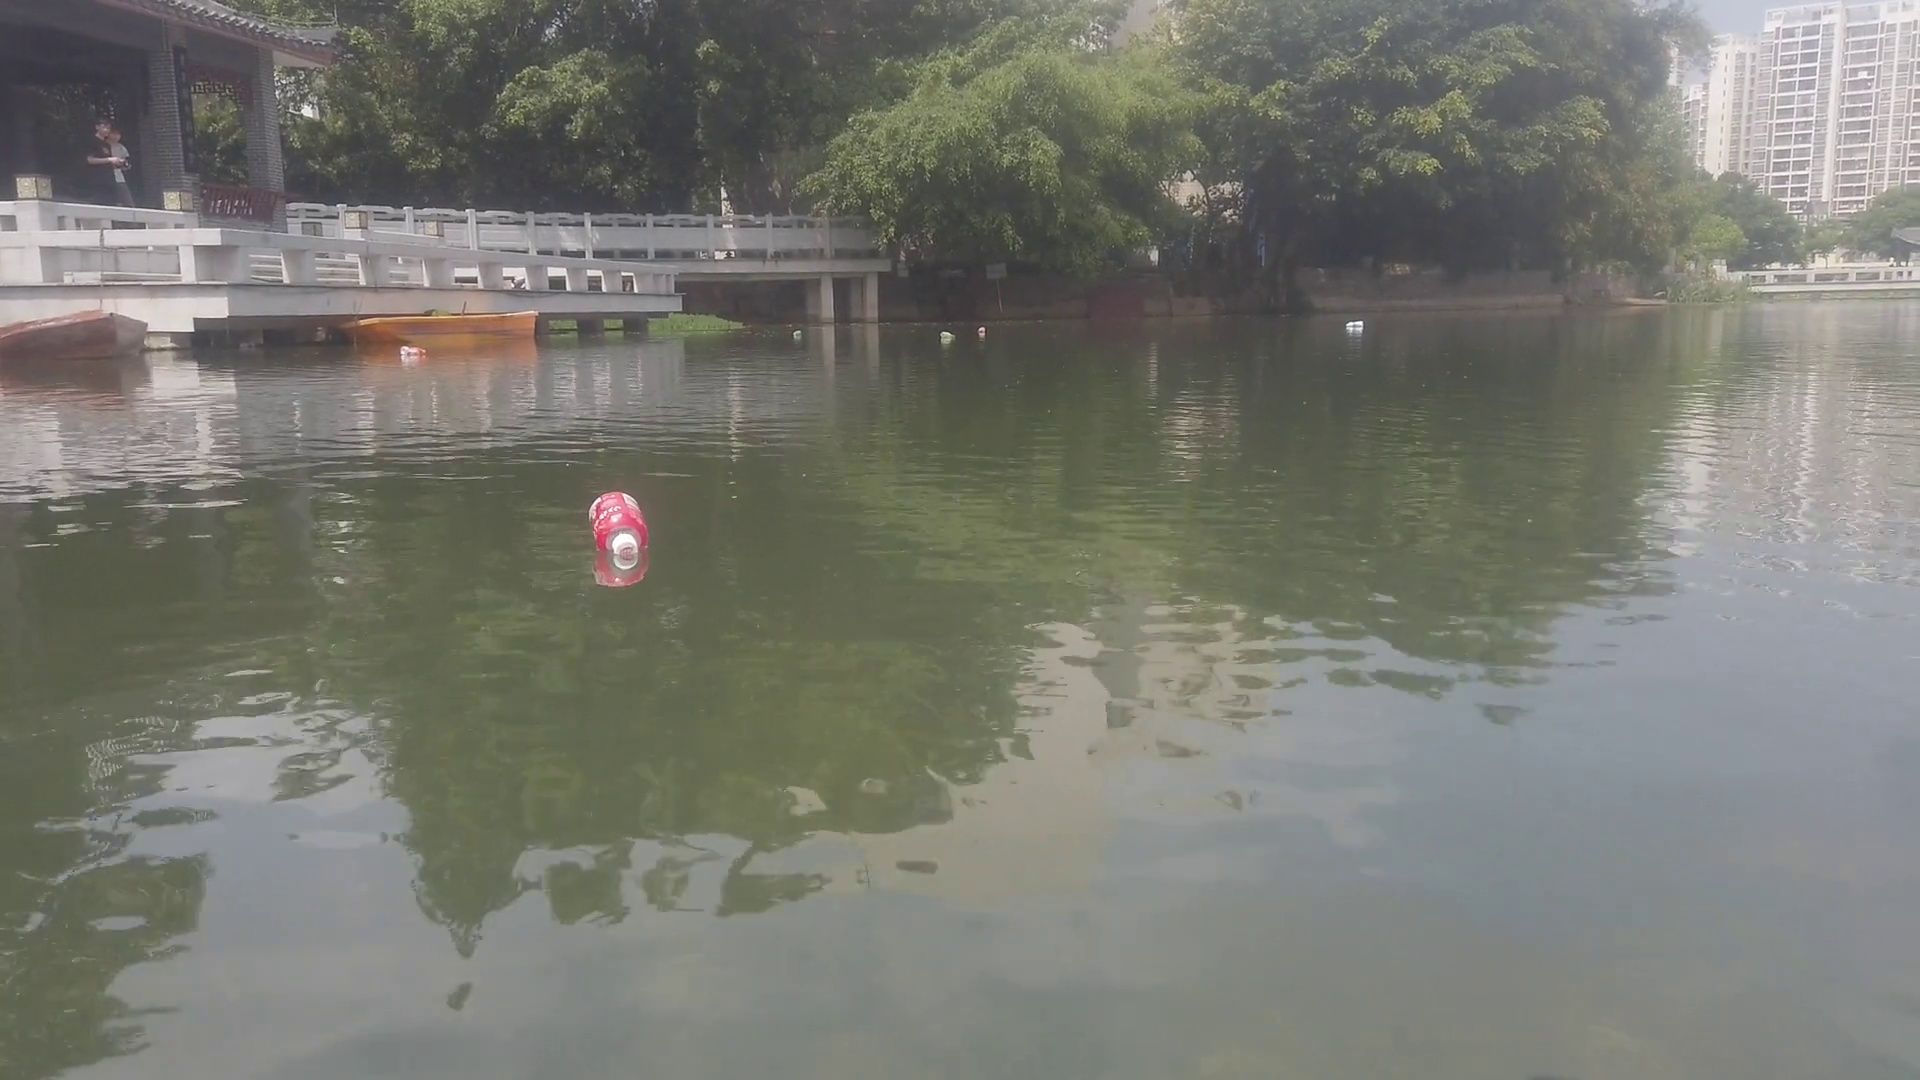bottle: (583, 487, 651, 560), (400, 340, 427, 357), (1342, 316, 1367, 330), (940, 324, 957, 343), (791, 326, 804, 338), (976, 324, 988, 338)
